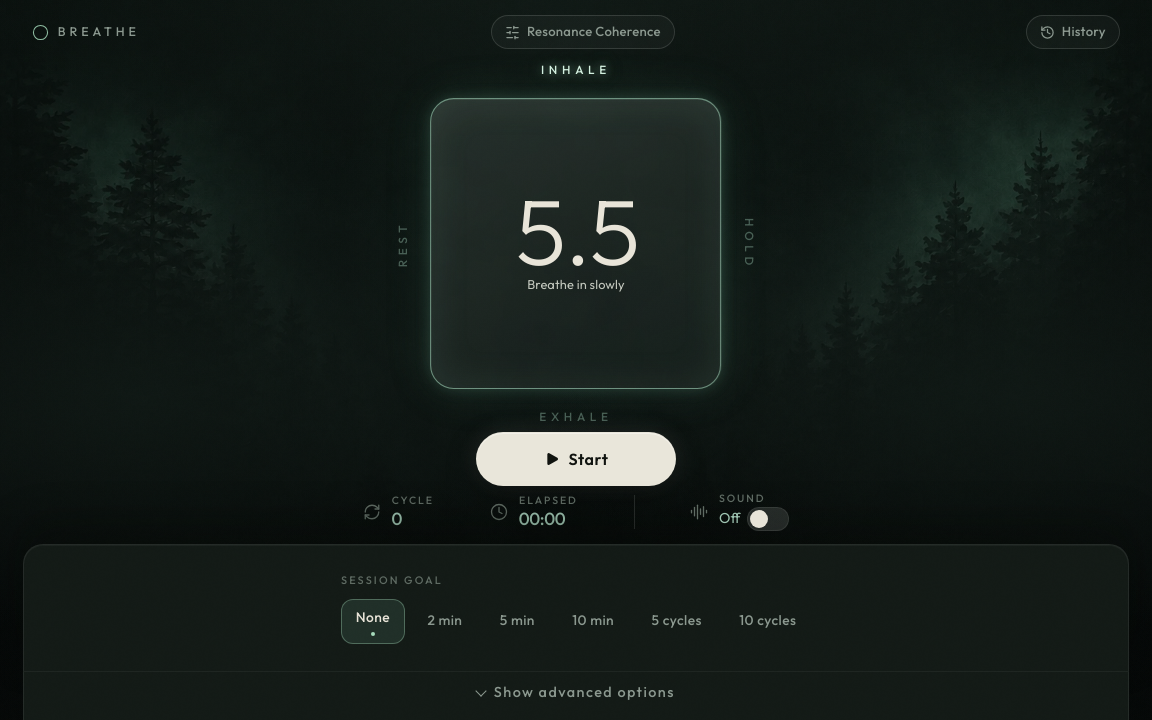
BreatheApp › handles Sound switch and updates visible On/Off label
The width and height of the screenshot is (1152, 720).
Expected: the text "Off" is shown, [719, 511, 740, 527]
Click the switch named "Sound": (768, 519) [747, 507, 789, 531]
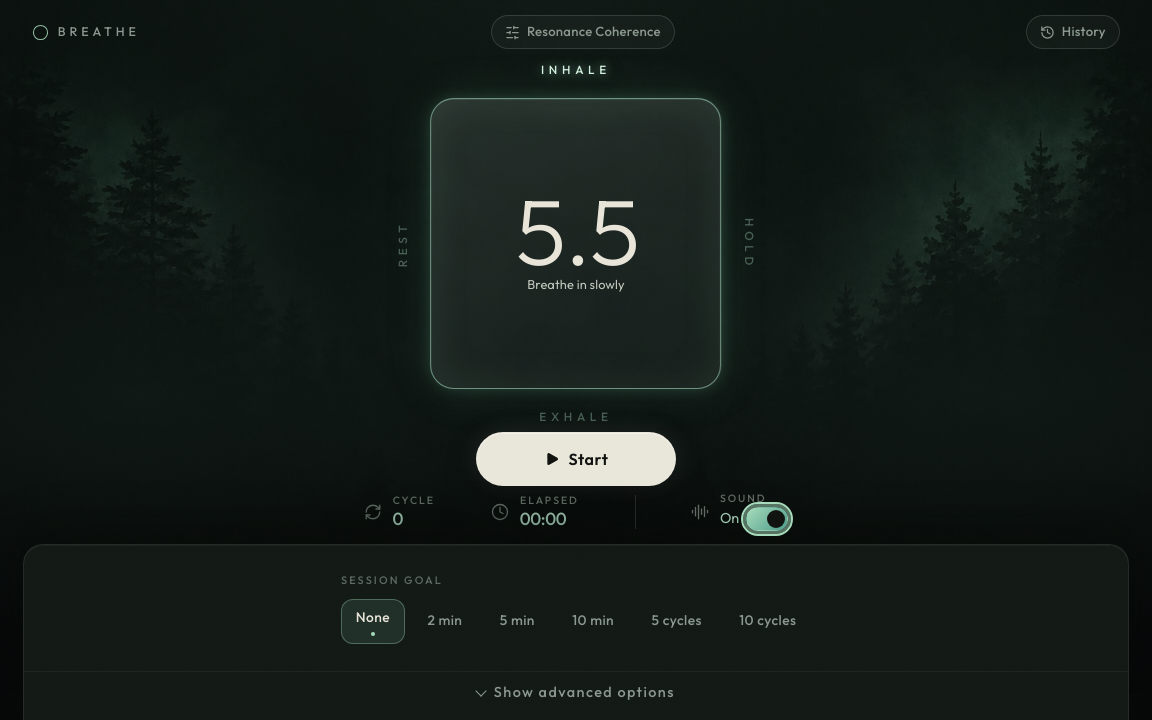
Now the text "On" is shown, box [720, 511, 739, 527]
